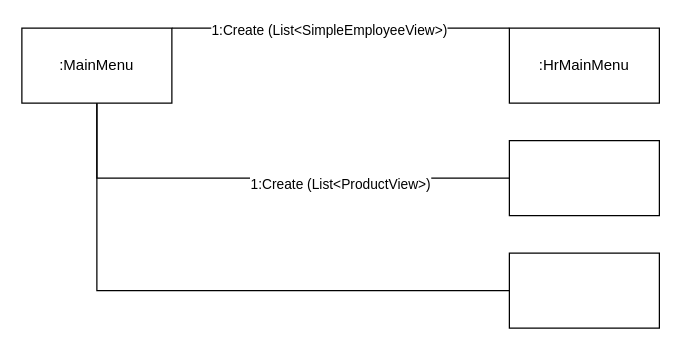
The diagram is 681 pixels wide and 350 high, and some of its shapes have lost their labels. The shapes that lost their labels are listed below. From the top down, each one's centre as x and y in pixels, then its label:
the point at 583,177: :ProductMainMenu
the point at 583,290: :CustomerMainMenu
